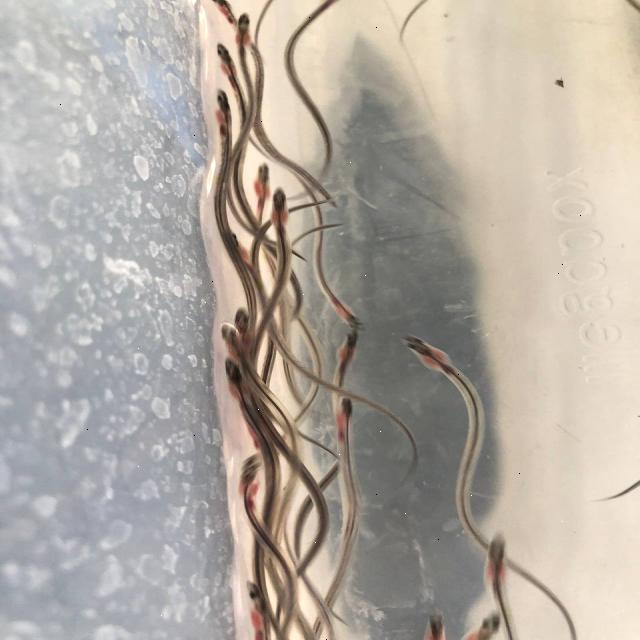glass_eel: (217, 355, 259, 411), (399, 334, 455, 376), (225, 450, 266, 506), (478, 530, 516, 588), (236, 580, 276, 634), (204, 86, 243, 140), (324, 294, 374, 336), (212, 322, 252, 371), (214, 223, 255, 269), (203, 42, 245, 83), (262, 184, 298, 230), (328, 329, 369, 369), (244, 162, 278, 209), (226, 12, 262, 54), (466, 609, 512, 640), (332, 397, 363, 441), (200, 0, 242, 26), (422, 609, 451, 640), (230, 304, 252, 334)
